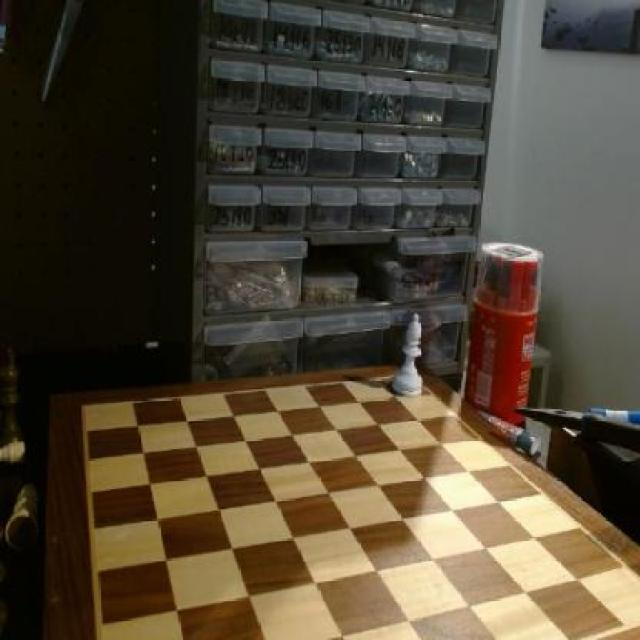black-rook: (392, 311, 430, 400)
